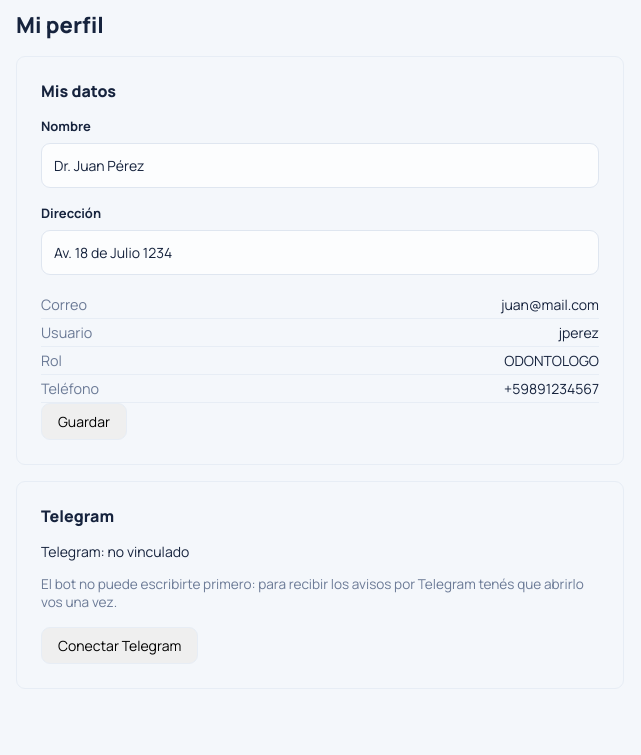
Scenario: Perfil › muestra el motivo cuando la vinculación no está configurada
Expected: the text "Telegram: no vinculado" is shown, [41,542,189,560]
Click the button "Conectar Telegram" at coordinates (120, 645), box [41,626,198,664]
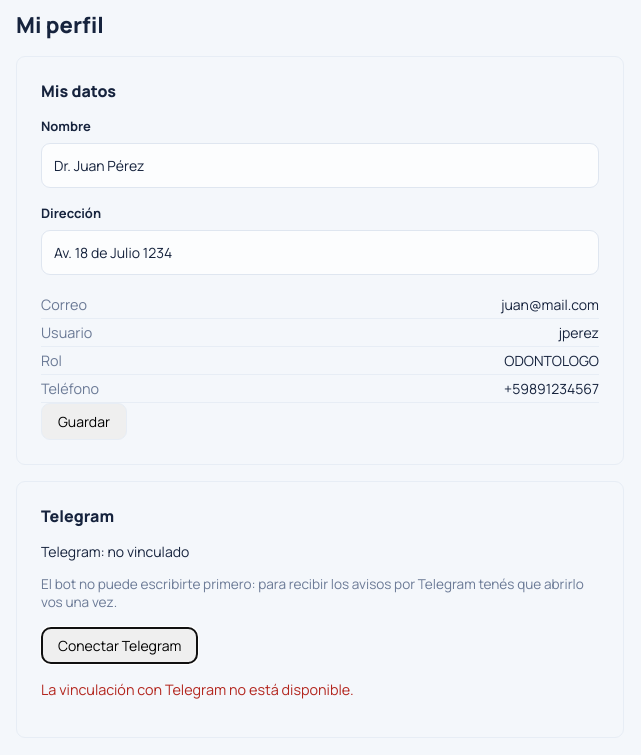
Now the text "La vinculación con Telegram no está disponible." is shown, box [41,680,354,698]
